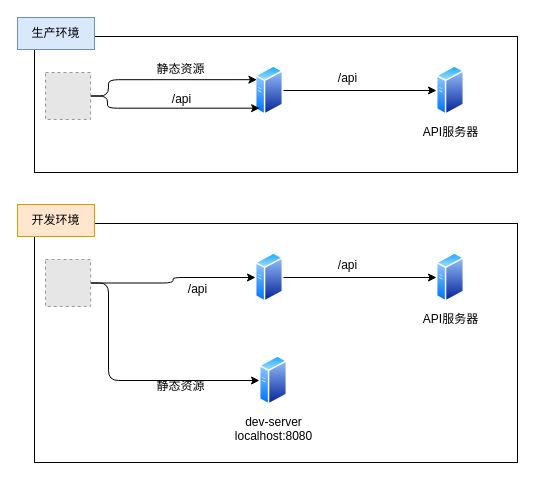
The diagram is 535 pixels wide and 480 high, and some of its shapes have lost their labels. Grey dashed boxes stand in for pictures. Each missing label, with the centre of its shape:
nginx服务器 a.com: pixel 269 90
nginx服务器 test.a.com: pixel 269 277
